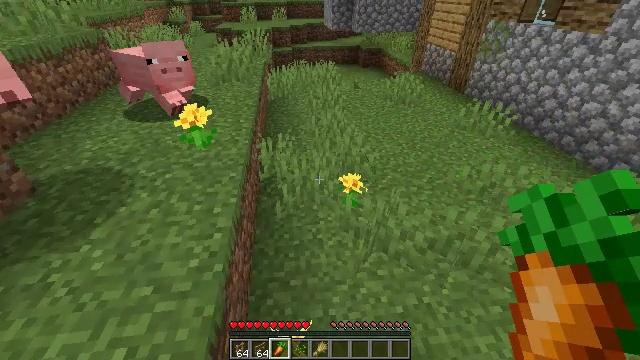pig: (115, 44, 195, 113)
